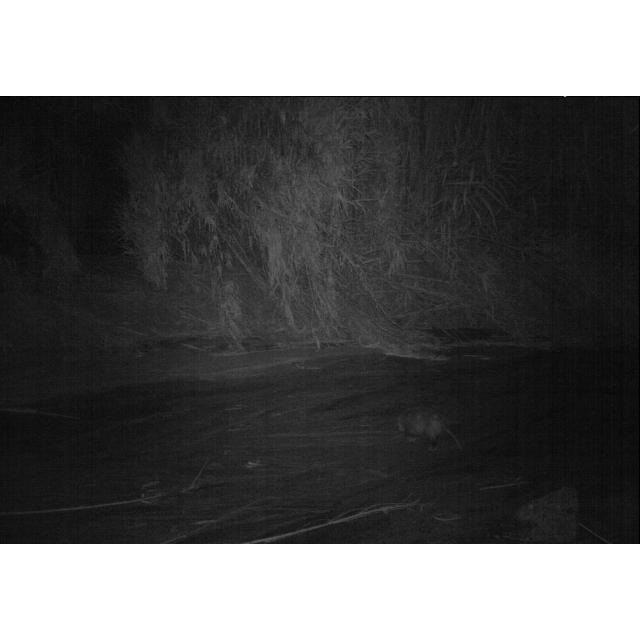animals: (396, 403, 456, 439)
